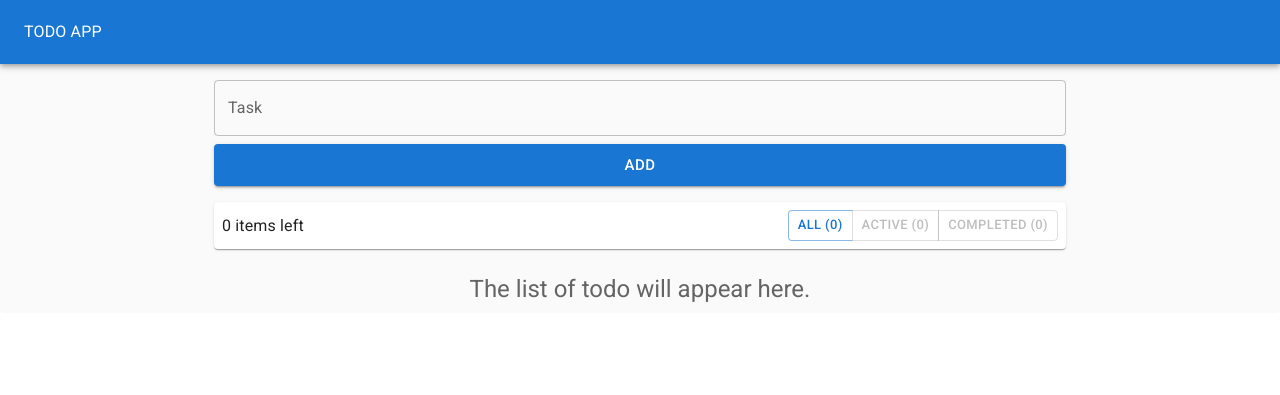
TODO test › should edit a todo
The image size is (1280, 395).
Type "Make a sandwich" into the field labelled "Task" at (640, 108), box [214,80,1066,136]
Then press Enter
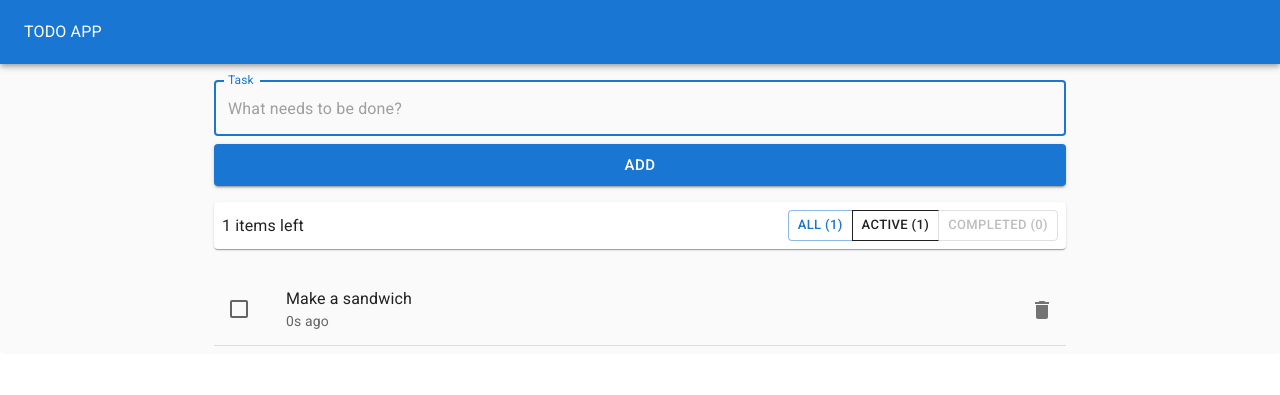
Double-click the 5th button at (349, 299), box [214,273,1066,346]
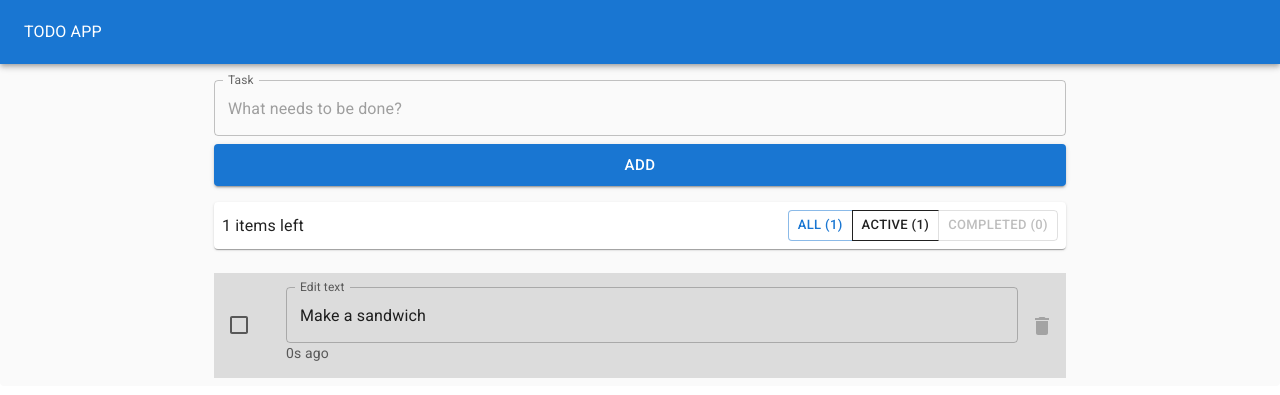
Replace the text in the field labelled "Edit text" with "Make a salad" at (652, 315), box [286,287,1018,343]
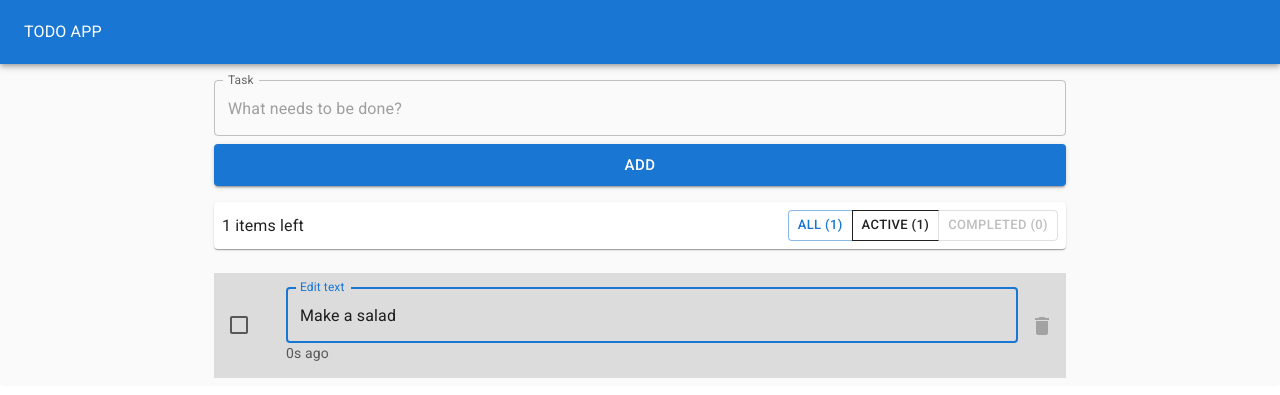
Press Enter in the field labelled "Edit text", box [286,287,1018,343]
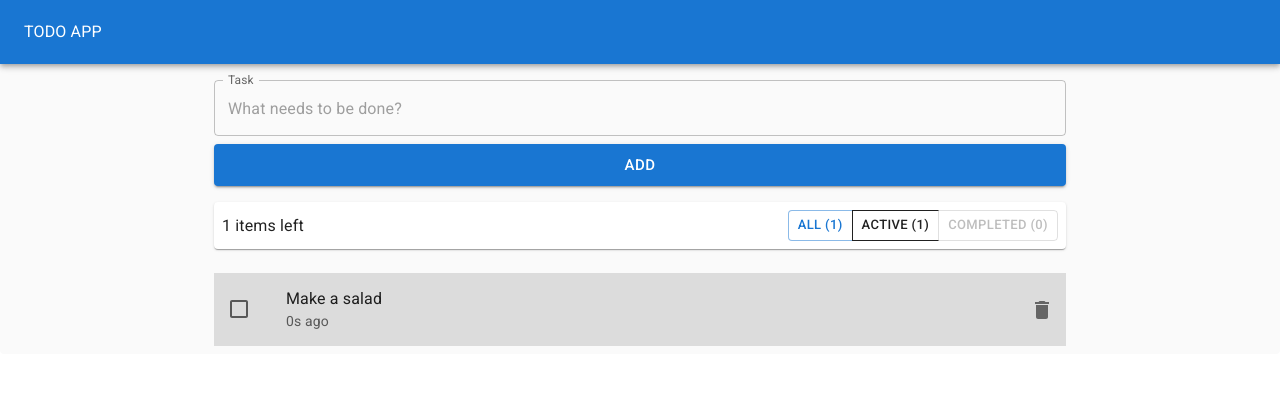
Expected: the text "Make a salad" is shown, [286,289,382,308]
